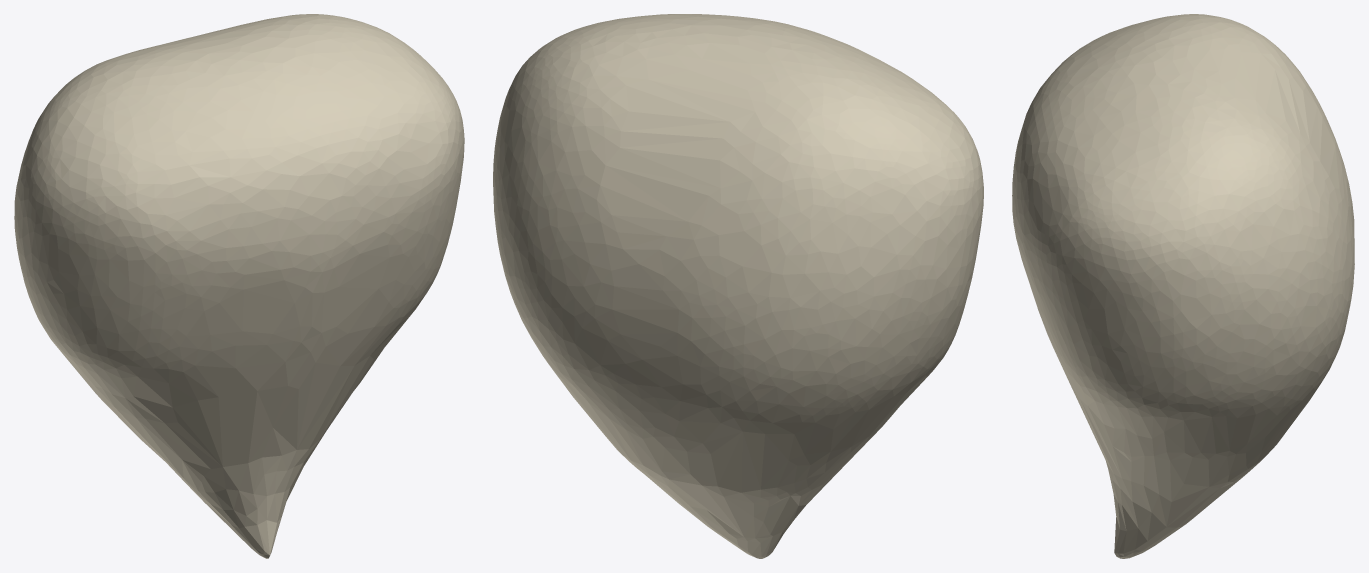
File: vessie.glb
3 renders of one model, left to right at view 1: azimuth 30°, elevation 25°; view 2: azimuth 150°, elevation 25°; view 3: azimuth 270°, elevation 25°, orthographic. The views are drawn at different scales.
Parts seen in each view (by area): view 1: FMA15900.stl; view 2: FMA15900.stl; view 3: FMA15900.stl.
Boxes of the visible parts, <box> form: FMA15900.stl: <box>14,14,464,558</box>; FMA15900.stl: <box>493,14,983,558</box>; FMA15900.stl: <box>1012,14,1354,558</box>.
Bounding box in the file's own units: 1.19 × 1.36 × 0.848.
